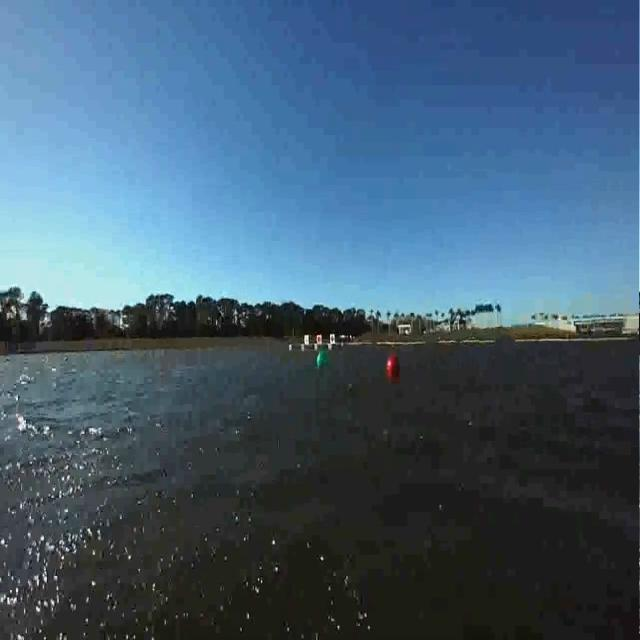green-buoy: (312, 350, 336, 374)
red-buoy: (384, 352, 402, 384)
